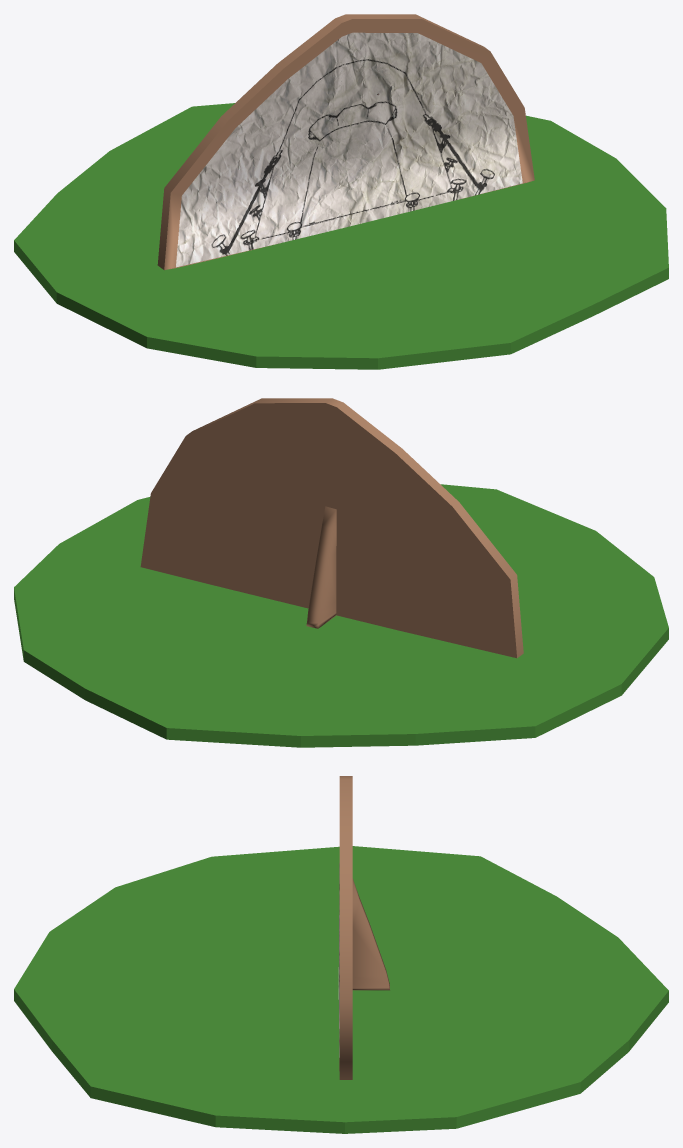
The model's file is UI_Aufsteller.fbx.
The picture shows the model from 3 angles, top to bottom: view 1: azimuth 30°, elevation 25°; view 2: azimuth 150°, elevation 25°; view 3: azimuth 270°, elevation 25°; orthographic projection.
Visible parts, largest first — view 1: poi_ground_decal_bottom, poi_ground_decal_top; view 2: poi_ground_decal_bottom, poi_ground_decal_top; view 3: poi_ground_decal_bottom, poi_ground_decal_top.
Part boxes in pixels (<box>): poi_ground_decal_bottom: <box>14,103,668,369</box>; poi_ground_decal_top: <box>157,14,534,270</box>; poi_ground_decal_bottom: <box>14,484,668,747</box>; poi_ground_decal_top: <box>140,398,523,658</box>; poi_ground_decal_bottom: <box>14,846,668,1133</box>; poi_ground_decal_top: <box>338,776,389,1079</box>.
Bounding box in the file's own units: 506 × 507 × 189.
